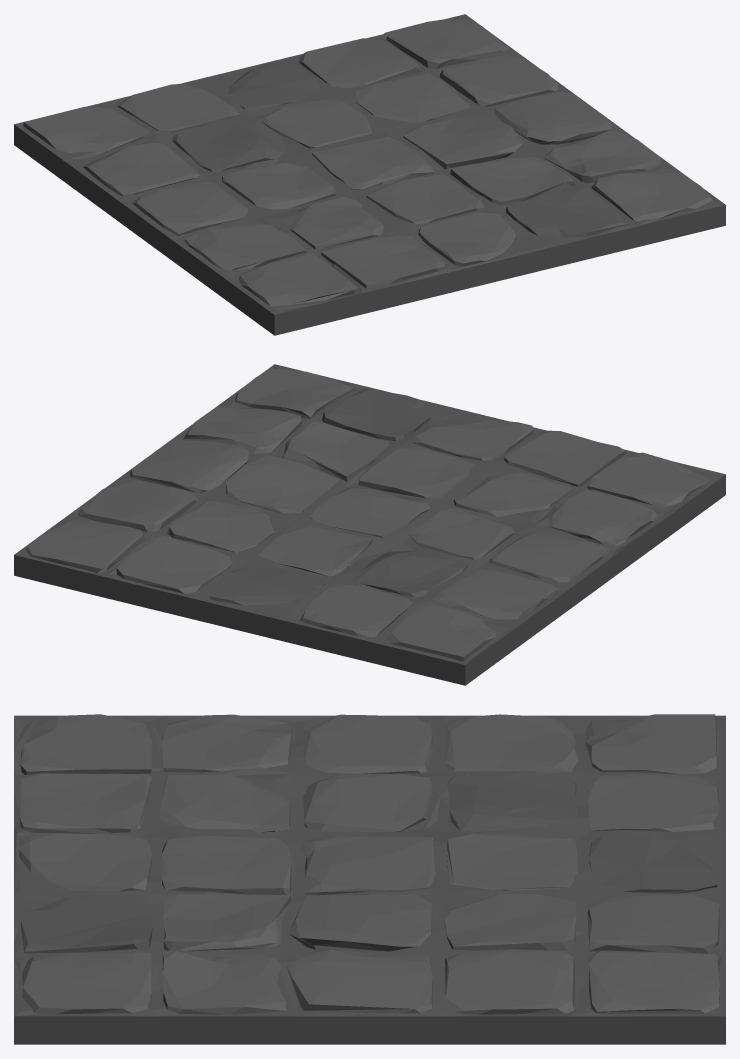
Rendered from Tile_02.glb.
3 renders of one model, top to bottom at view 1: azimuth 30°, elevation 25°; view 2: azimuth 150°, elevation 25°; view 3: azimuth 270°, elevation 25°, orthographic. The views are drawn at different scales.
Visible parts, largest first — view 1: Tile_02_LOD0; view 2: Tile_02_LOD0; view 3: Tile_02_LOD0.
Boxes of the visible parts, box(x1,y1,x2,y2) form: Tile_02_LOD0: box(14, 14, 725, 335); Tile_02_LOD0: box(14, 364, 725, 685); Tile_02_LOD0: box(14, 714, 725, 1044).
Size of what is drawn, in the model's own units: 2.5 by 0.1651 by 2.5.
Materials: 1 (1 with a texture image).
